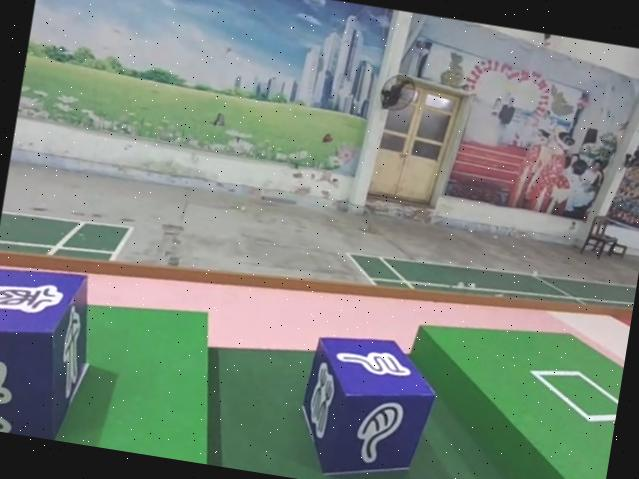R2 Fake Blue: (294, 326, 446, 479), (0, 252, 101, 443)
